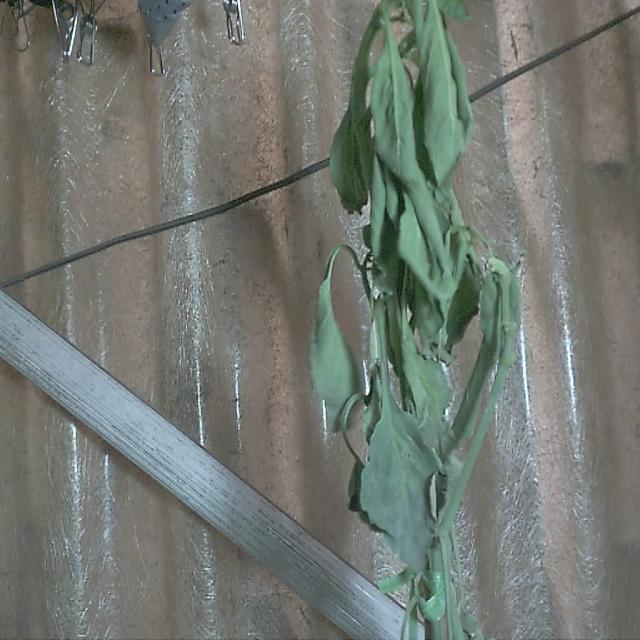Leaf: (363, 390, 436, 572), (420, 9, 466, 184), (373, 41, 416, 203)
